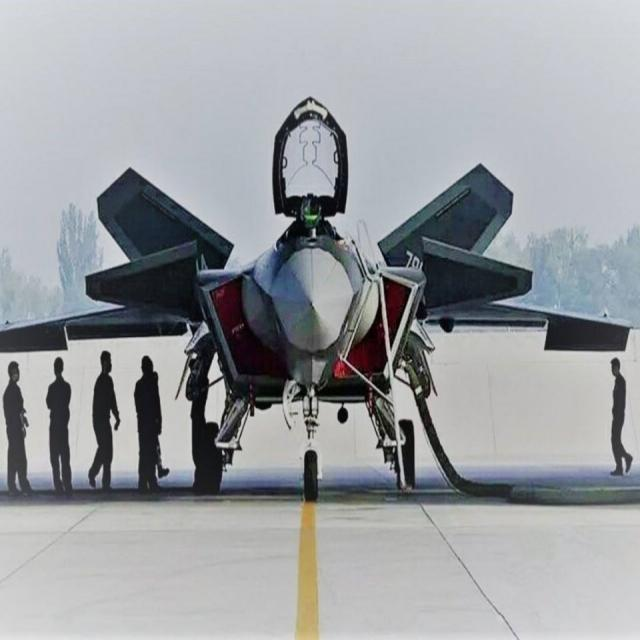MIL_Plane: (1, 95, 634, 503)
